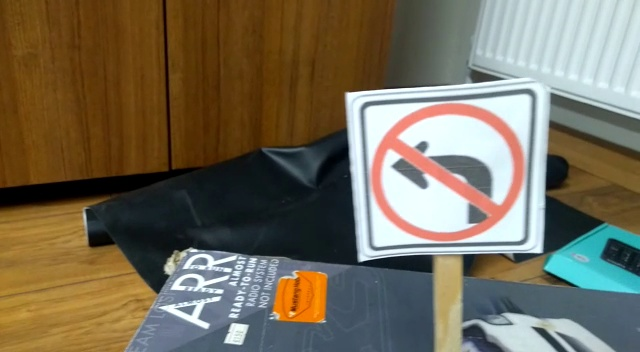sola_donulmez: (358, 81, 545, 254)
